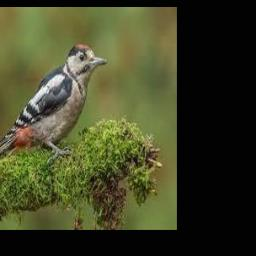Woodpecker: (0, 44, 107, 160)
